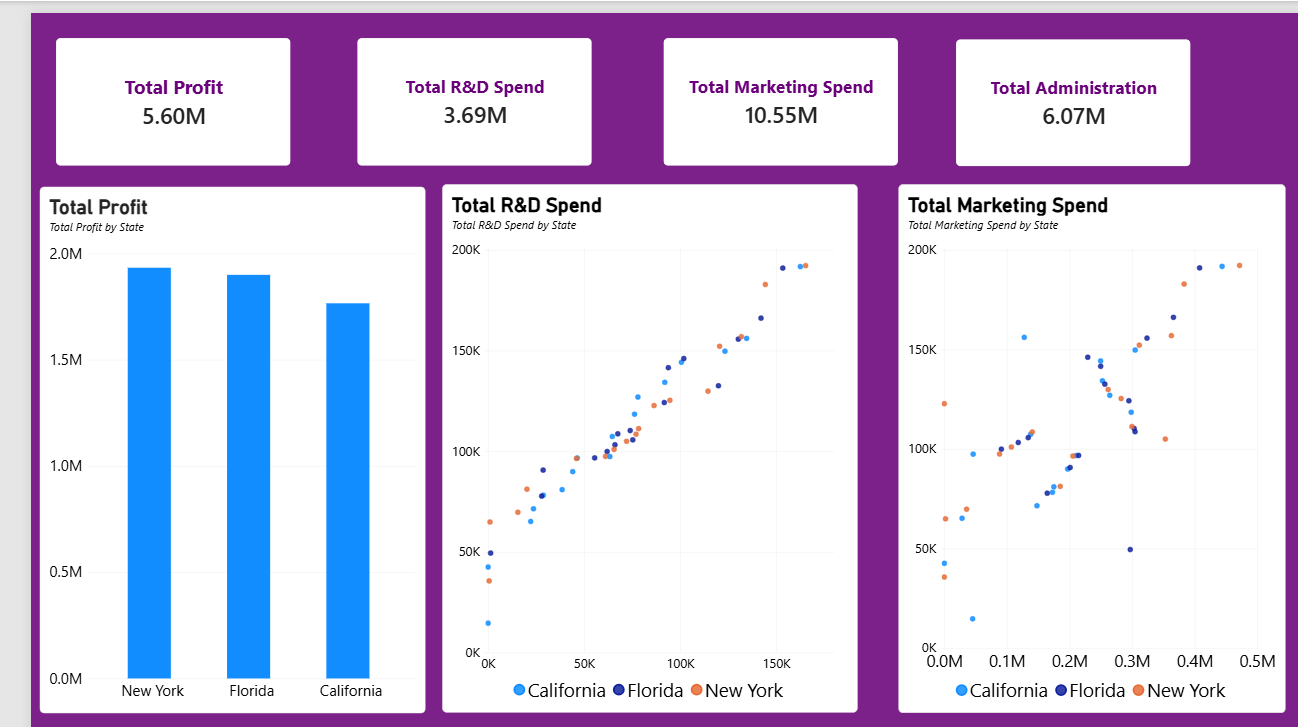

The page's visual inventory and layout, read from the dashboard file:
{"tool":"powerbi","page":{"name":"Profit","canvas":[2264,1360],"ordinal":0},"visuals":[{"type":"cardVisual","fields":{"Data":["Sum(Profit-Analysis.Profit)"]},"box":[43.7,43.7,417,227],"z":0},{"type":"cardVisual","fields":{"Data":["Sum(Profit-Analysis.Administration)"]},"box":[1644.9,46,417,226.4],"z":1},{"type":"cardVisual","fields":{"Data":["Sum(Profit-Analysis.RD_Spend)"]},"box":[579.8,43.7,417,227],"z":2},{"type":"cardVisual","fields":{"Data":["Sum(Profit-Analysis.Marketing_Spend)"]},"box":[1125,43.7,417,227],"z":3},{"type":"lineClusteredColumnComboChart","title":"Total Profit","fields":{"Category":["Profit-Analysis.State"],"Y":["Sum(Profit-Analysis.Total Profit)"]},"box":[16.1,308.3,685.6,936.4],"z":4},{"type":"scatterChart","title":"Total R&D Spend","fields":{"Series":["Profit-Analysis.State"],"X":["Sum(Profit-Analysis.Total R&D Spend)"],"Y":["Sum(Profit-Analysis.Total Profit)"]},"box":[733.9,308.3,738.2,939.4],"z":5},{"type":"scatterChart","title":"Total Marketing Spend","fields":{"Series":["Profit-Analysis.State"],"X":["Sum(Profit-Analysis.Total Marketing Spend)"],"Y":["Sum(Profit-Analysis.Total Profit)"]},"box":[1509.2,308.3,687.9,940],"z":6}]}

Visuals, with their boxes on the page's 2264x1360 design canvas (x1, y1, x2, y2). These are canvas units, not pixel positions in the 1298x727 screenshot, which may show the page scaled, cropped or inside an application window:
cardVisual - Sum(Profit-Analysis.Profit): rect(44, 44, 461, 271)
cardVisual - Sum(Profit-Analysis.Administration): rect(1645, 46, 2062, 272)
cardVisual - Sum(Profit-Analysis.RD_Spend): rect(580, 44, 997, 271)
cardVisual - Sum(Profit-Analysis.Marketing_Spend): rect(1125, 44, 1542, 271)
"Total Profit" lineClusteredColumnComboChart: rect(16, 308, 702, 1245)
"Total R&D Spend" scatterChart: rect(734, 308, 1472, 1248)
"Total Marketing Spend" scatterChart: rect(1509, 308, 2197, 1248)
